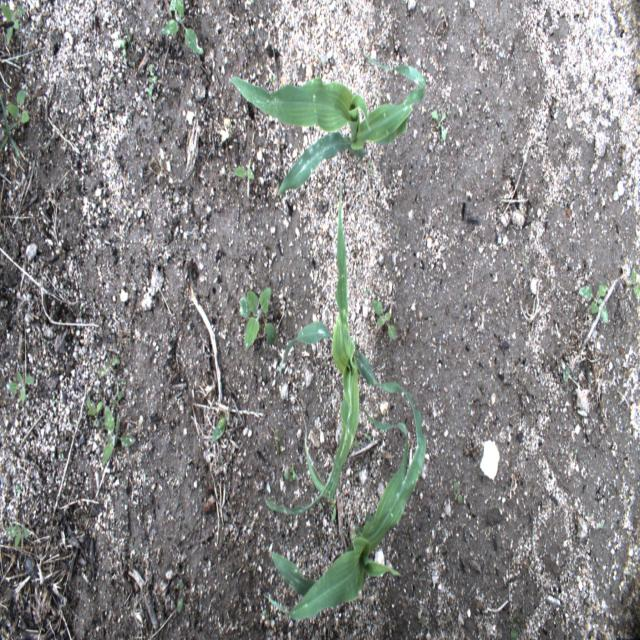crop: (262, 174, 403, 516), (264, 391, 426, 621), (227, 45, 426, 197)
weed: (239, 286, 279, 350), (102, 404, 138, 468), (164, 0, 204, 54), (0, 100, 24, 161), (577, 281, 609, 326), (371, 298, 397, 340), (7, 368, 35, 406), (1, 3, 24, 47), (6, 87, 31, 125), (8, 524, 30, 550), (99, 358, 122, 379), (431, 114, 447, 142), (147, 61, 158, 100), (628, 265, 640, 300), (212, 414, 225, 446), (232, 164, 255, 181), (177, 576, 186, 616), (87, 394, 102, 418), (509, 614, 521, 640), (453, 479, 463, 506), (283, 465, 296, 482), (560, 364, 570, 382), (345, 434, 360, 446), (119, 36, 127, 58), (331, 495, 337, 521), (631, 624, 640, 639), (367, 158, 374, 175), (15, 482, 22, 496), (363, 432, 372, 442), (269, 74, 277, 84), (264, 607, 269, 621)
